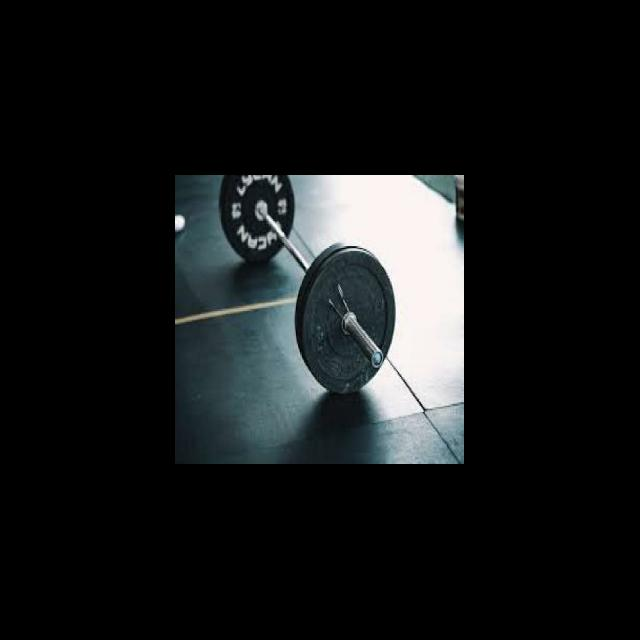barbell: (296, 246, 399, 398)
